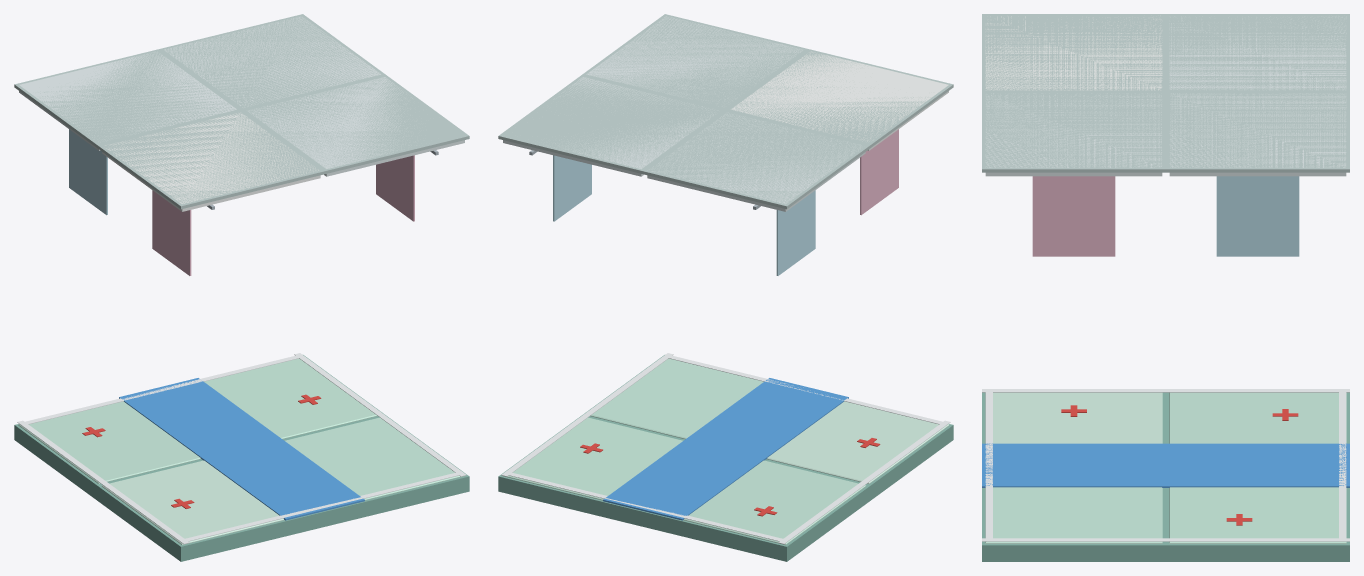
File: floor_c.fbx
3 views of the same model, side by side, from view 1: azimuth 30°, elevation 25°; view 2: azimuth 150°, elevation 25°; view 3: azimuth 270°, elevation 25° (orthographic). The views are drawn at different scales.
Visible parts, largest first — view 1: Ceiling, floor_c; view 2: Ceiling, floor_c; view 3: Ceiling, floor_c.
Part boxes in pixels (bbox=[...]): Ceiling: bbox=[14, 14, 469, 275]; floor_c: bbox=[14, 353, 469, 561]; Ceiling: bbox=[498, 14, 953, 275]; floor_c: bbox=[498, 353, 953, 561]; Ceiling: bbox=[982, 14, 1349, 256]; floor_c: bbox=[982, 389, 1349, 561].
Size of the model in its own units: 4 by 4.71 by 4.
